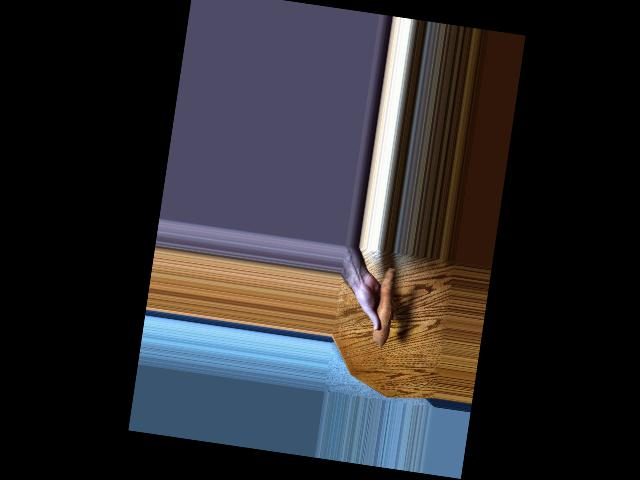sweet_potato: (368, 266, 401, 343)
